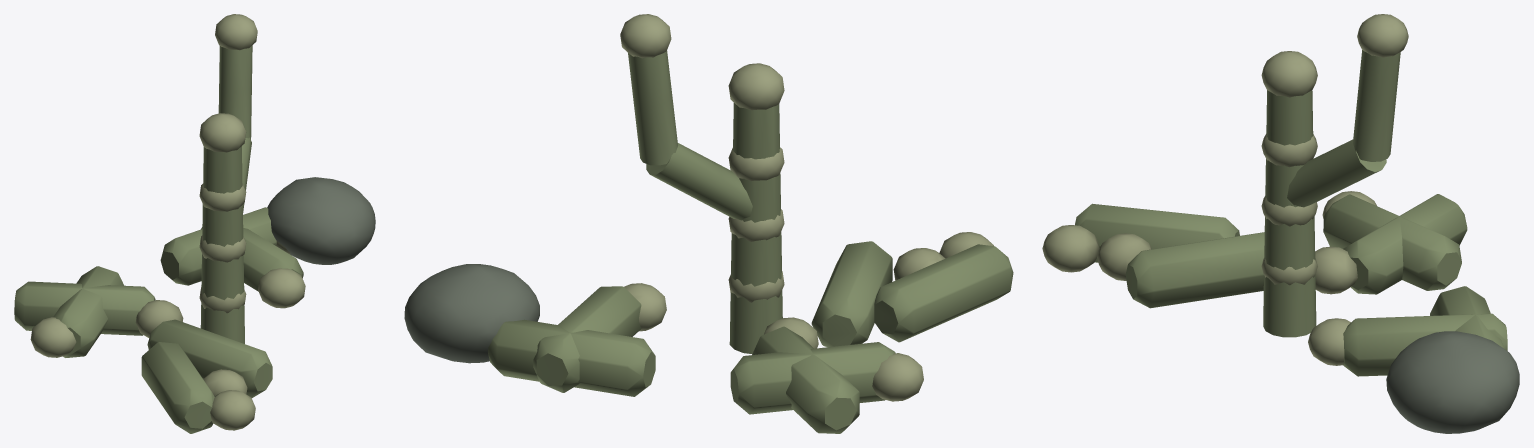
File: cholla_c.glb
The picture shows the model from 3 angles, left to right: view 1: azimuth 30°, elevation 25°; view 2: azimuth 150°, elevation 25°; view 3: azimuth 270°, elevation 25°; orthographic projection. The views are drawn at different scales.
Parts seen in each view (by area): view 1: Surface; view 2: Surface; view 3: Surface.
Part boxes in pixels (x1,y1,x2,y2): Surface: [14, 14, 375, 433]; Surface: [404, 14, 1013, 433]; Surface: [1042, 14, 1519, 433].
Size of the model in its own units: 1.58 by 1.16 by 1.46.
